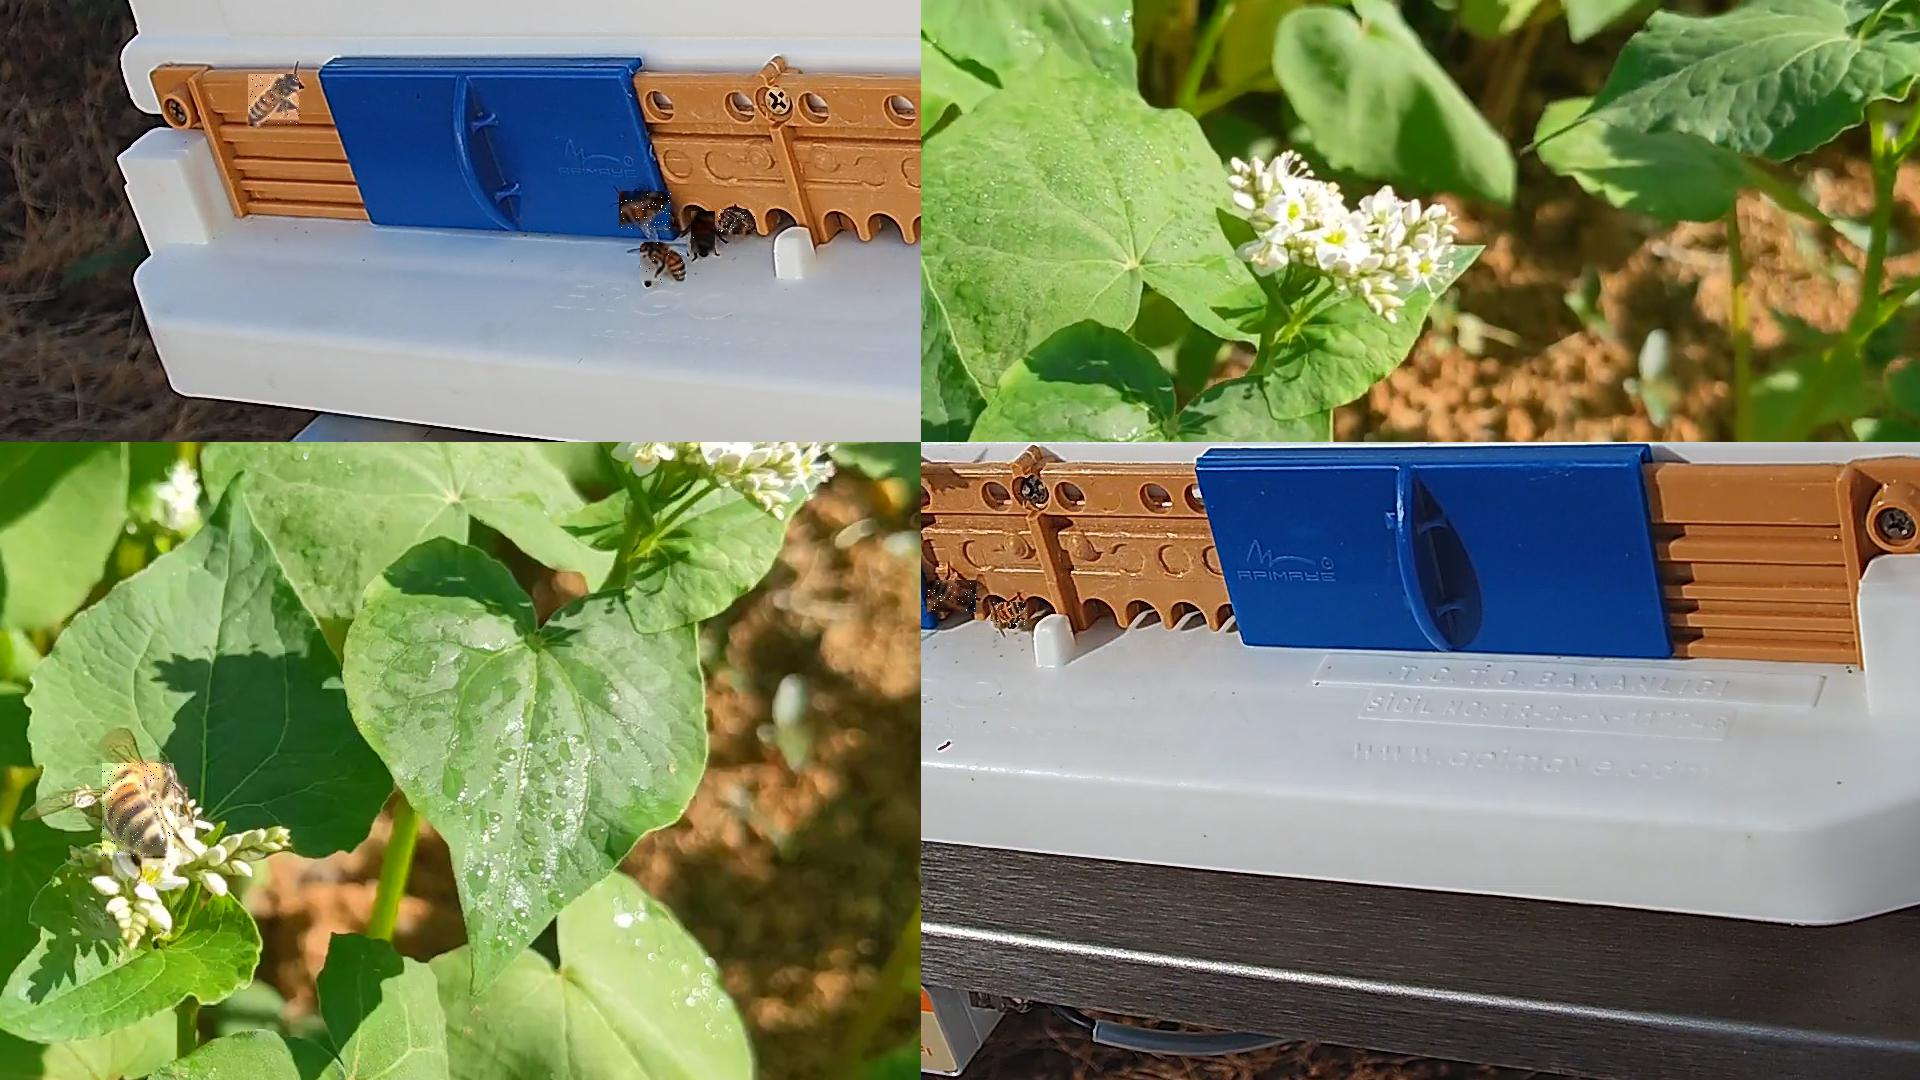bee: (103, 764, 175, 858), (248, 75, 301, 127), (620, 191, 675, 231), (640, 243, 688, 286), (927, 580, 977, 613), (691, 212, 716, 256), (719, 210, 757, 235), (992, 603, 1030, 628)
